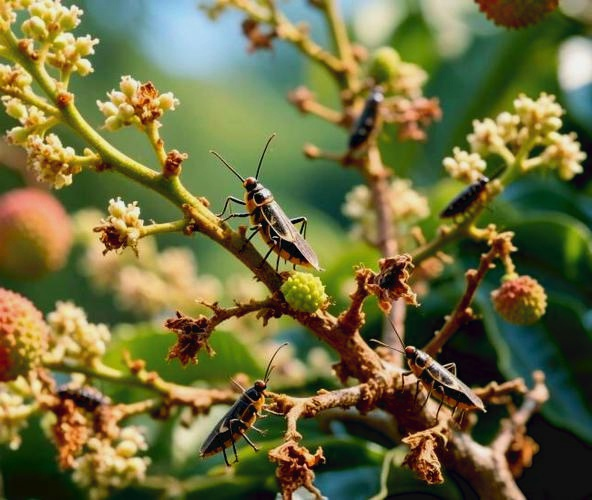Stink_Bug: (225, 163, 325, 268), (197, 356, 291, 462), (356, 248, 446, 314), (402, 342, 480, 417), (443, 165, 501, 227)
